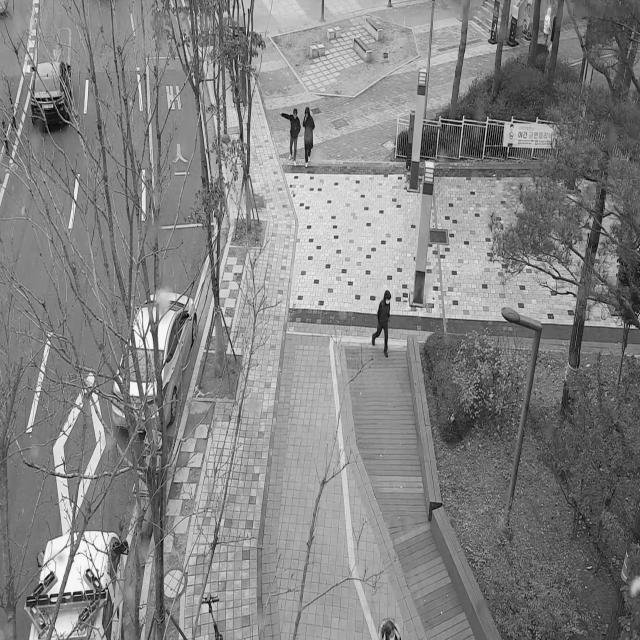Car: (105, 261, 201, 443), (27, 39, 76, 134)
Truck: (15, 504, 130, 640)
